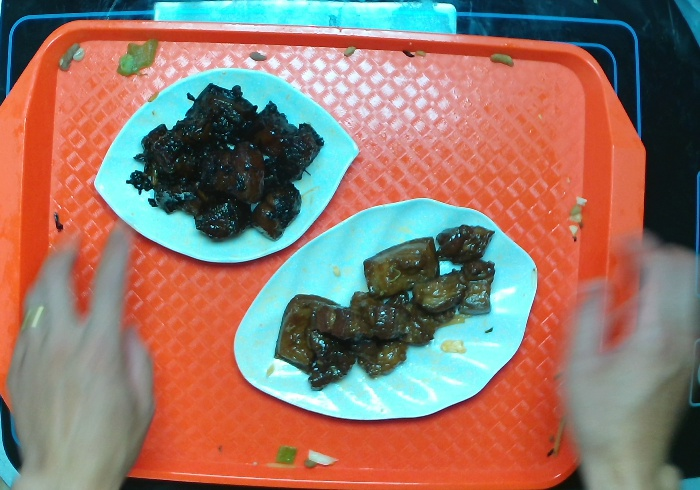RJxy-Bai_Ye_Pan: (230, 192, 543, 423)
RJxy-Da_Du_Pan: (92, 64, 362, 268)
